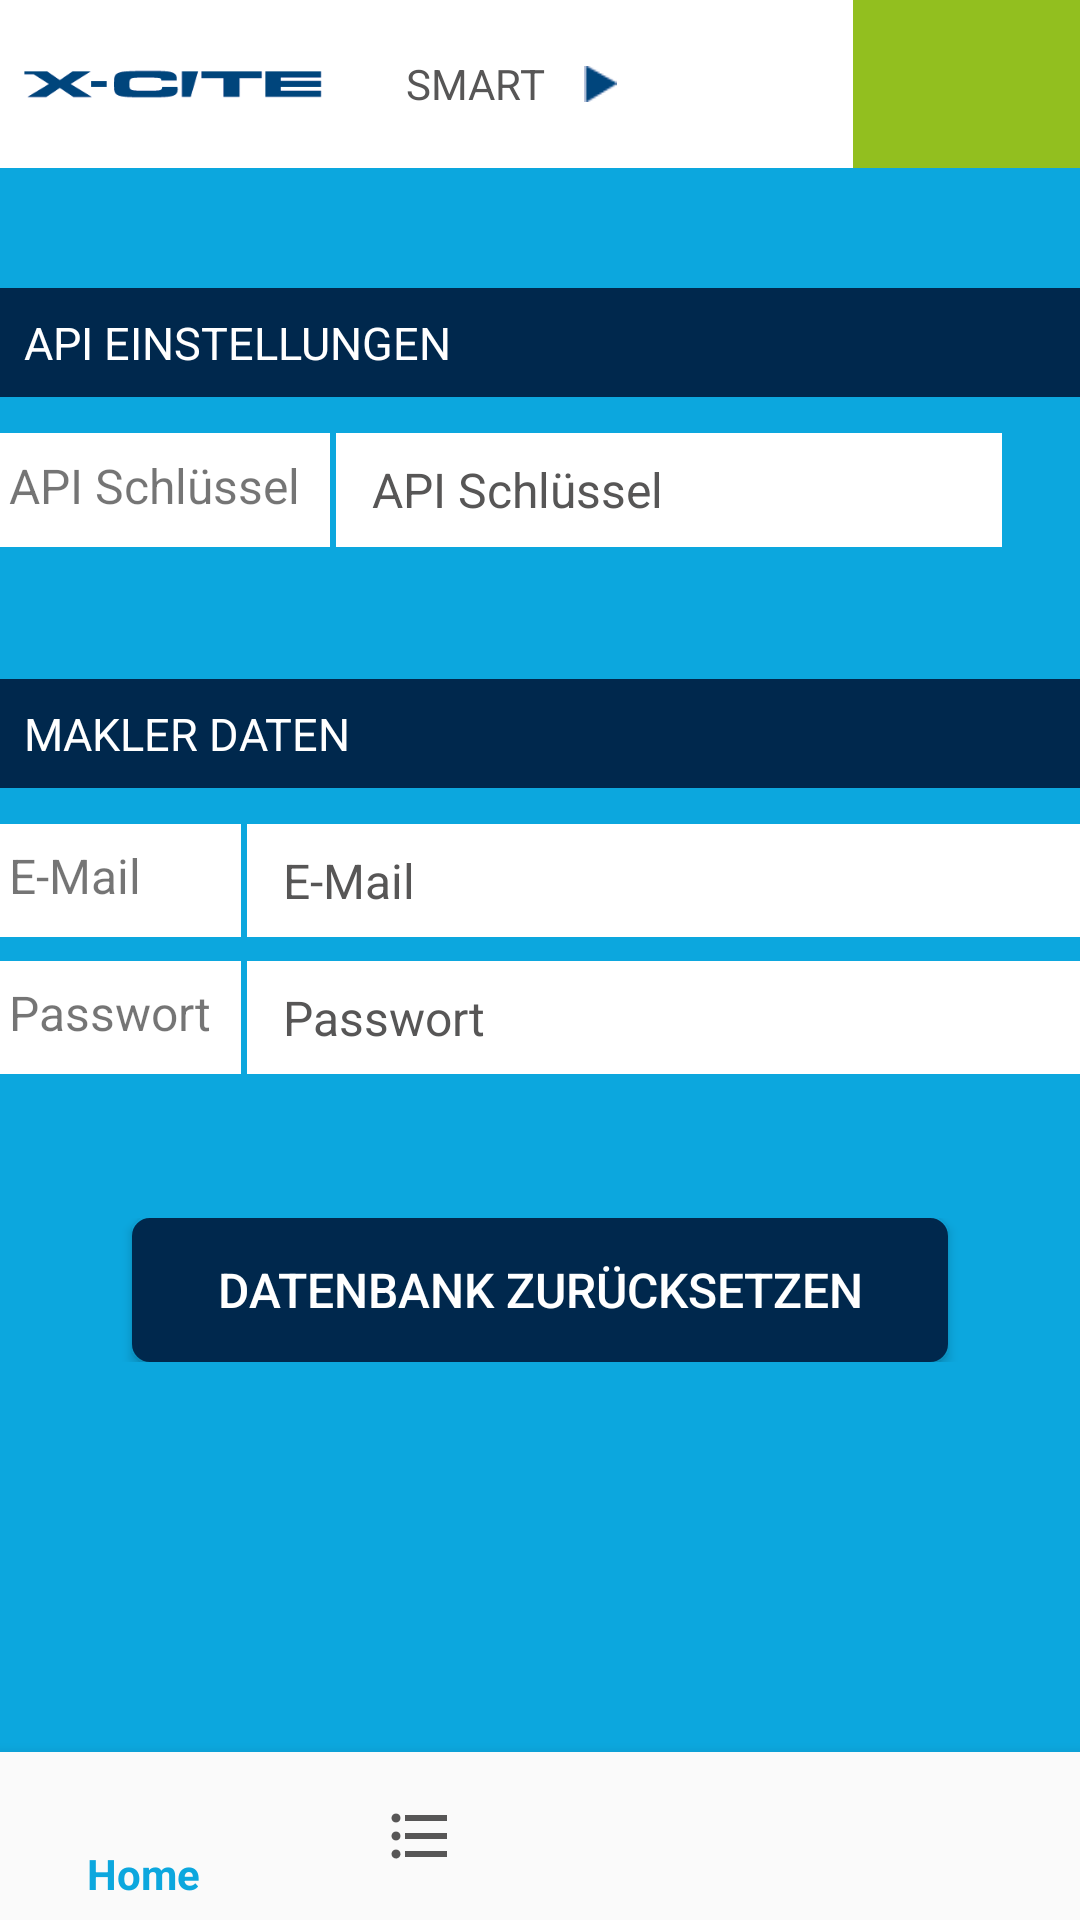

Named icons in this screenshot (1080w x 1920h) and their bounding boxes, (x1, y1, x2, y2):
arrow: (584, 66, 617, 102)
